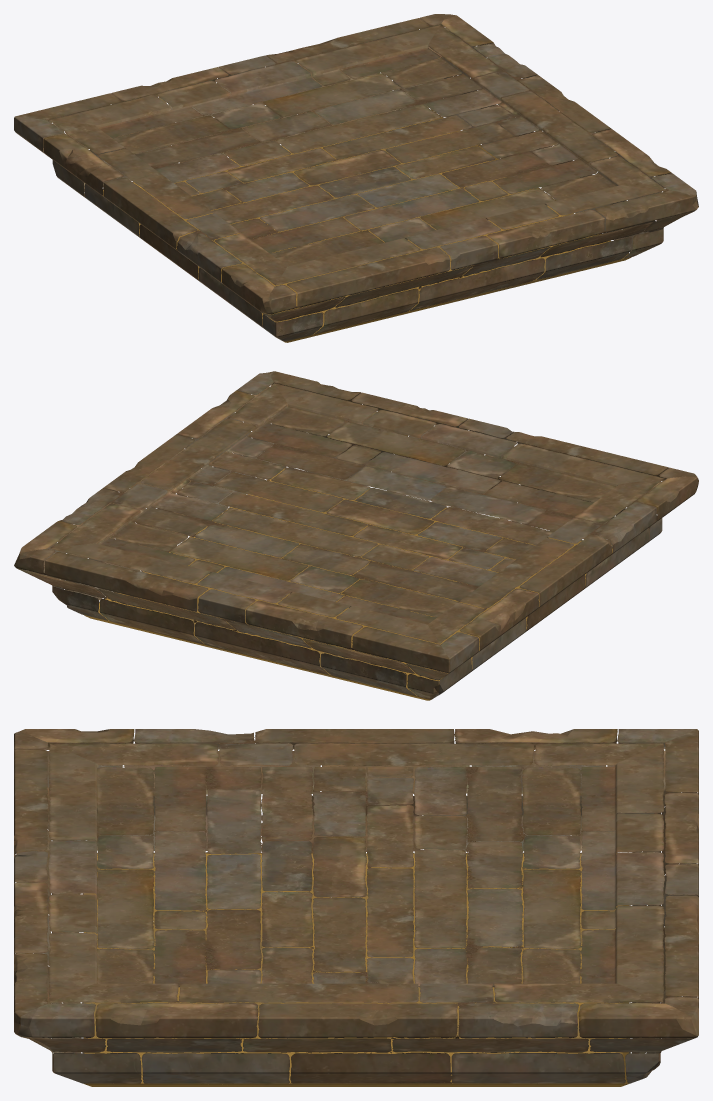
3 views of the same model, one above another, from view 1: azimuth 30°, elevation 25°; view 2: azimuth 150°, elevation 25°; view 3: azimuth 270°, elevation 25° (orthographic). The views are drawn at different scales.
Visible parts, largest first — view 1: SM_DK_16m_TowerTop_014_LOD0; view 2: SM_DK_16m_TowerTop_014_LOD0; view 3: SM_DK_16m_TowerTop_014_LOD0.
Part boxes in pixels (x1,y1,x2,y2): SM_DK_16m_TowerTop_014_LOD0: (14,14,698,342); SM_DK_16m_TowerTop_014_LOD0: (14,371,698,700); SM_DK_16m_TowerTop_014_LOD0: (14,729,698,1086).
Bounding box in the file's own units: 6.42 × 1.06 × 6.42.
2 materials, 2 textured.
